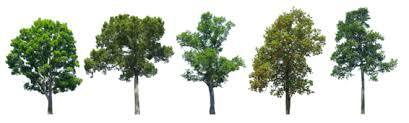plant: (84, 17, 174, 116), (250, 8, 326, 118), (4, 17, 83, 113), (330, 7, 398, 114), (176, 12, 244, 117)
